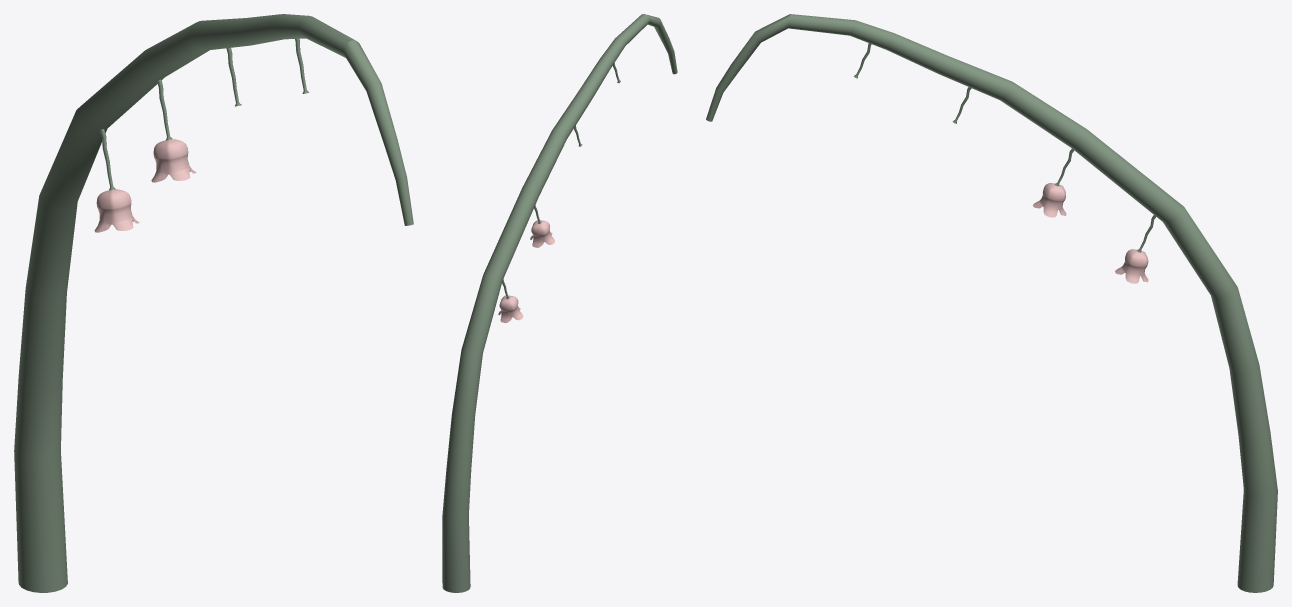
File: lily2flower.fbx
3 renders of one model, left to right at view 1: azimuth 30°, elevation 25°; view 2: azimuth 150°, elevation 25°; view 3: azimuth 270°, elevation 25°, orthographic. The views are drawn at different scales.
Visible parts, largest first — view 1: polySurface2, polySurface5, polySurface8; view 2: polySurface2, polySurface8, polySurface5; view 3: polySurface2, polySurface8, polySurface5.
Boxes of the visible parts, left/top/right/bottom form: polySurface2: left=14, top=14, right=413, bottom=592; polySurface5: left=151, top=139, right=196, bottom=182; polySurface8: left=94, top=189, right=139, bottom=232; polySurface2: left=442, top=14, right=677, bottom=592; polySurface8: left=498, top=295, right=523, bottom=323; polySurface5: left=530, top=220, right=554, bottom=247; polySurface2: left=706, top=14, right=1277, bottom=592; polySurface8: left=1115, top=249, right=1148, bottom=283; polySurface5: left=1033, top=183, right=1066, bottom=217.
Size of the model in its own units: 0.2449 by 3.4 by 3.11.
